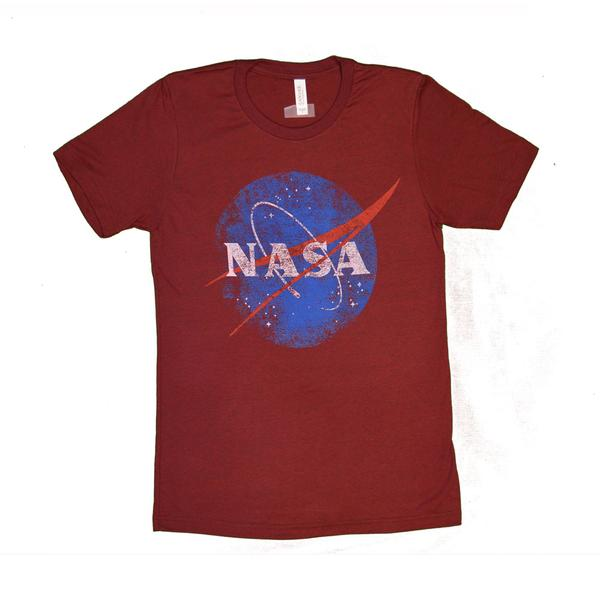NASA: (194, 169, 404, 348)
